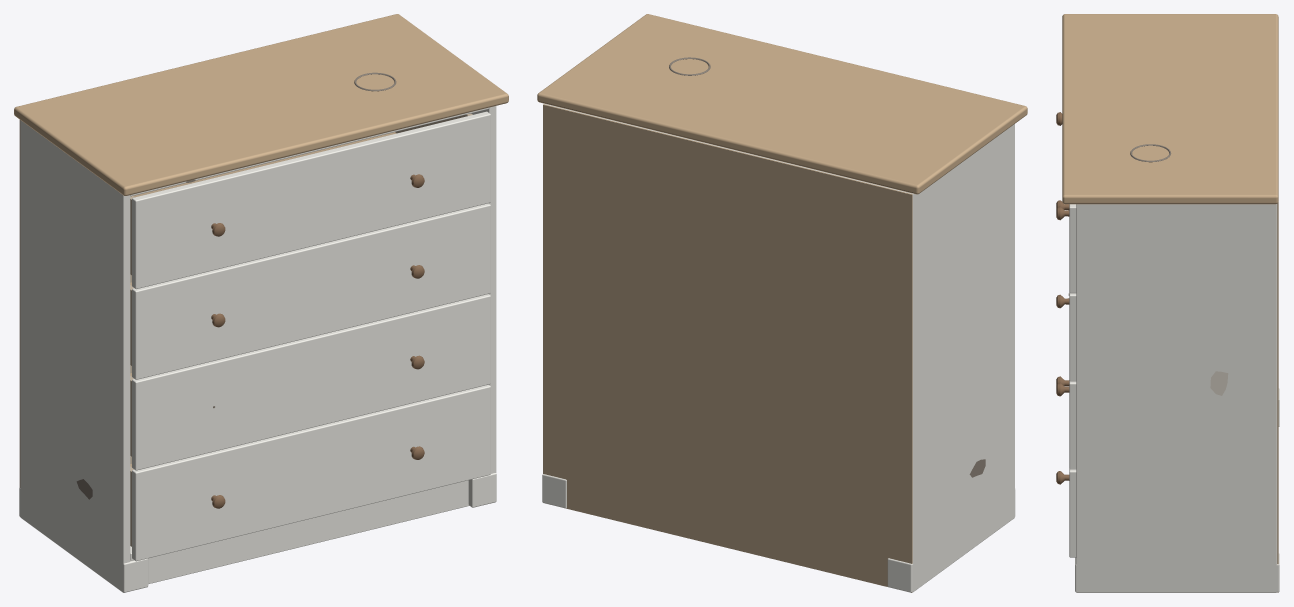
The model's file is furniture_dresser.fbx.
3 renders of one model, left to right at view 1: azimuth 30°, elevation 25°; view 2: azimuth 150°, elevation 25°; view 3: azimuth 270°, elevation 25°, orthographic. The views are drawn at different scales.
Visible parts, largest first — view 1: body, drawer_1, drawer_2, drawer_3, drawer_4; view 2: body; view 3: body, drawer_4, drawer_1, drawer_2, drawer_3.
Boxes of the visible parts, x1,y1,x2,y2 form: body: (14, 14, 508, 592); drawer_1: (130, 111, 490, 289); drawer_2: (130, 203, 490, 379); drawer_3: (130, 294, 490, 470); drawer_4: (130, 384, 490, 561); body: (537, 14, 1027, 592); body: (1062, 14, 1279, 592); drawer_4: (1056, 376, 1076, 557); drawer_1: (1056, 112, 1076, 293); drawer_2: (1056, 200, 1076, 381); drawer_3: (1056, 293, 1076, 469).
Bounding box in the file's own units: 0.93 × 0.9523 × 0.4805.
